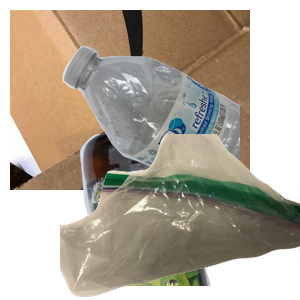cardboard: (10, 10, 250, 190)
glass: (78, 120, 281, 300)
plastic: (60, 44, 300, 224)
trash: (60, 134, 300, 300)
